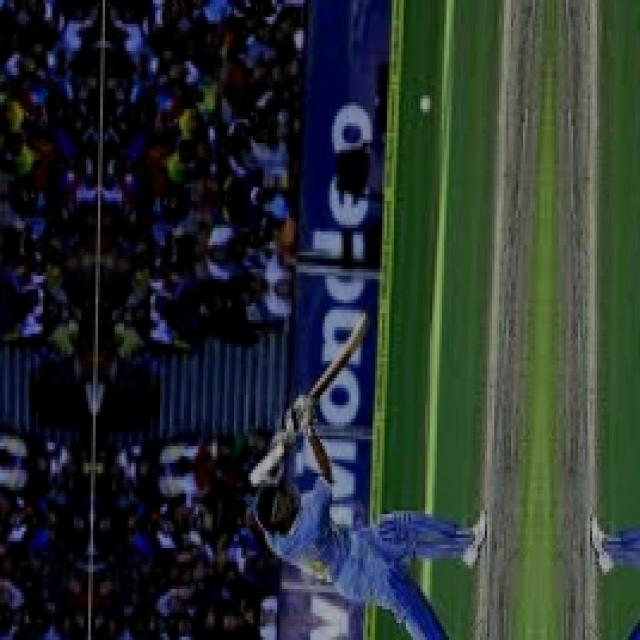bat: (304, 309, 370, 416)
